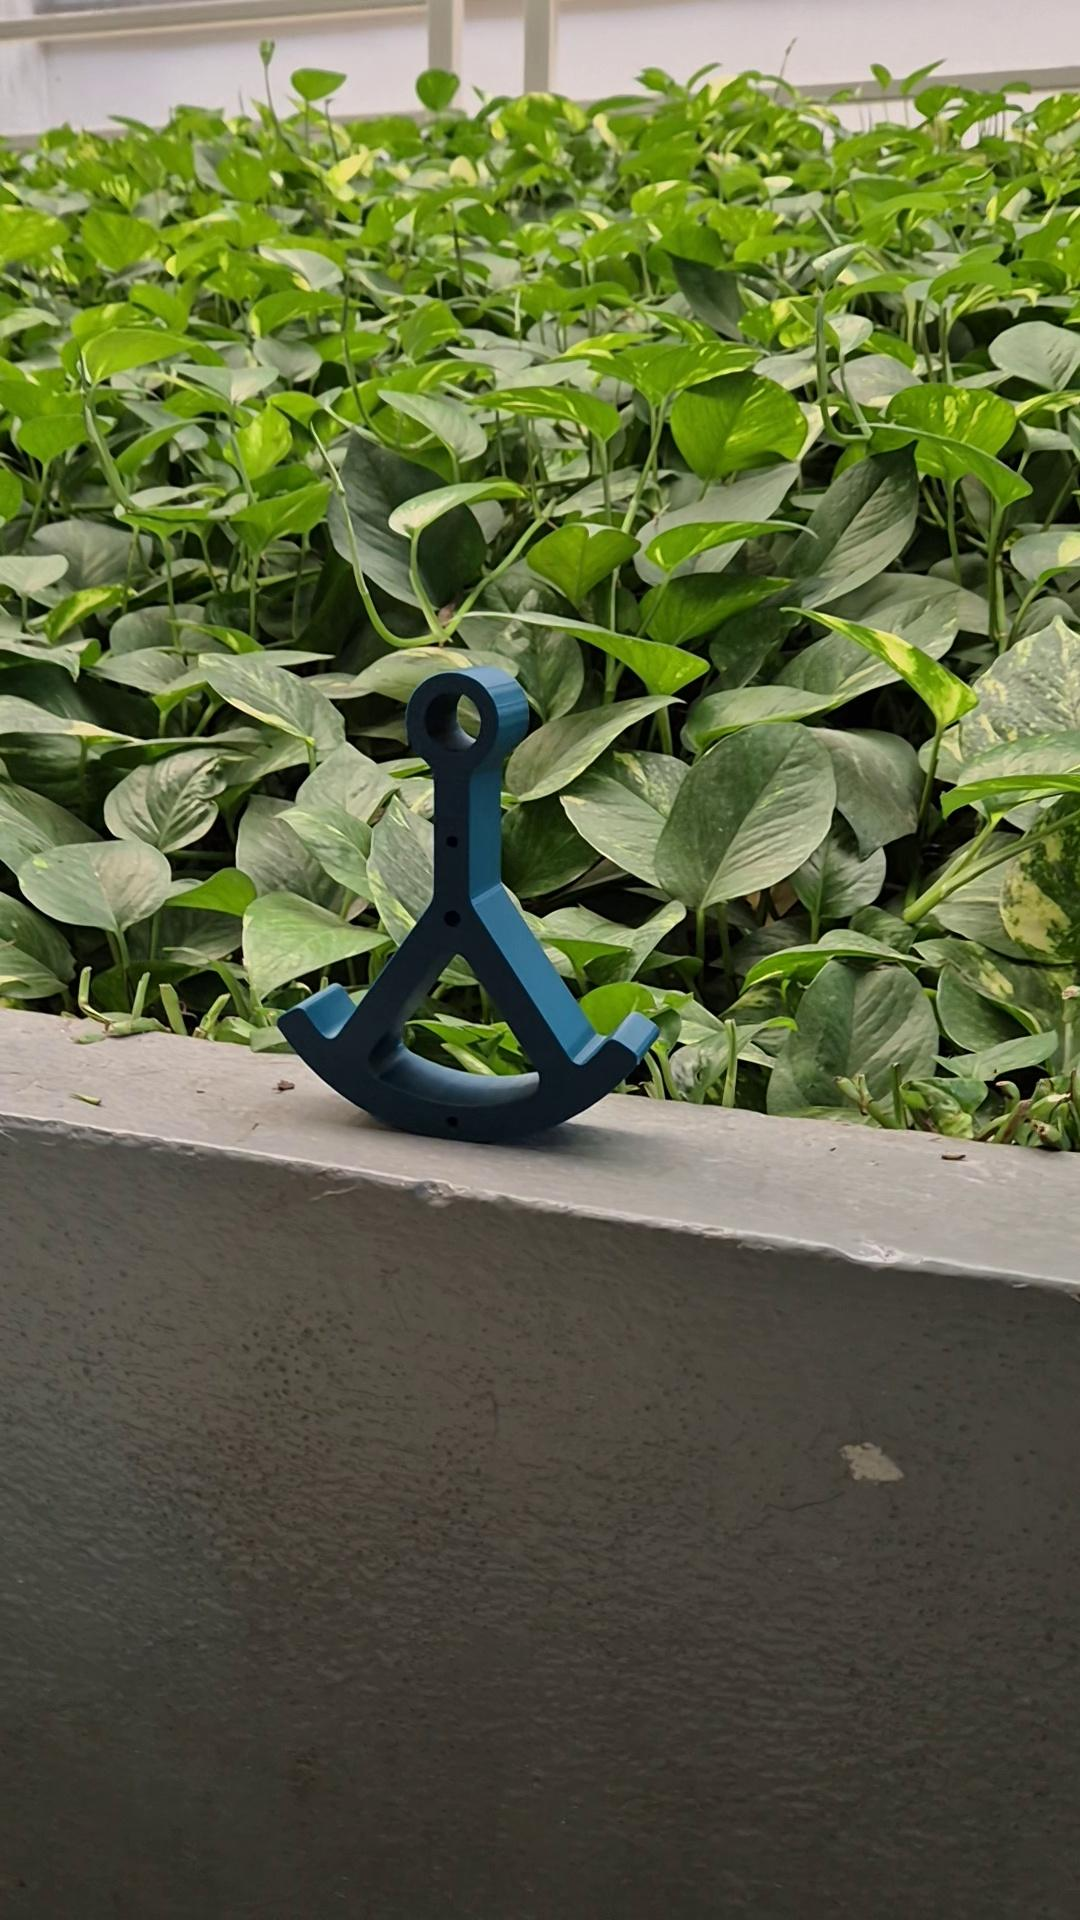Paddles: (273, 663, 663, 1145)
